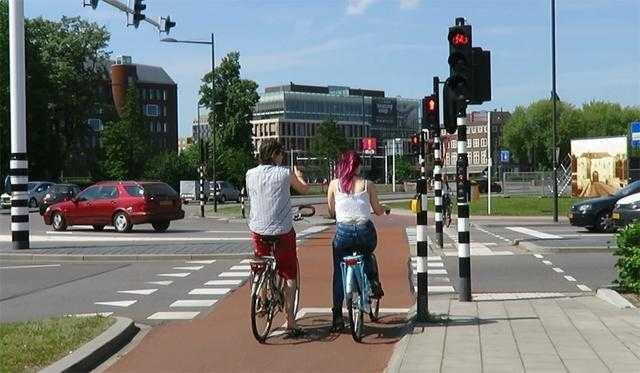red: (448, 22, 474, 101), (448, 26, 472, 52)
